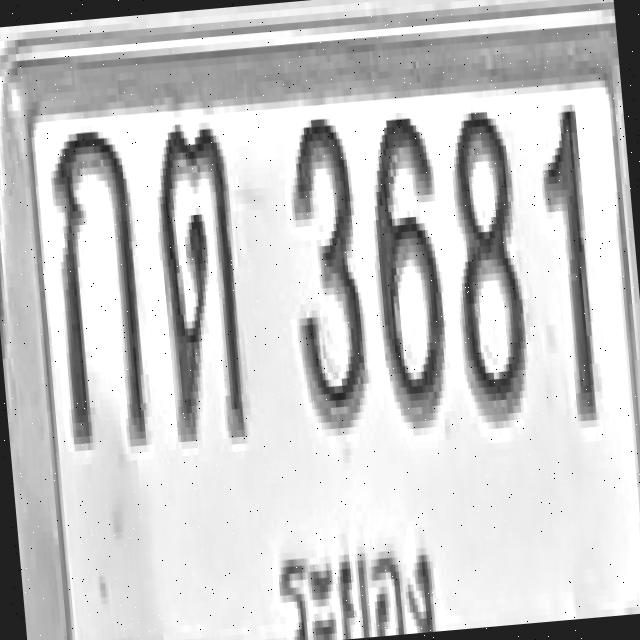1: (534, 100, 601, 419)
10GorGai: (45, 119, 150, 448)
3: (280, 110, 370, 431)
30TorTao: (148, 114, 248, 442)
6: (362, 106, 453, 427)
8: (441, 100, 532, 420)
Rayong: (263, 511, 446, 640)
